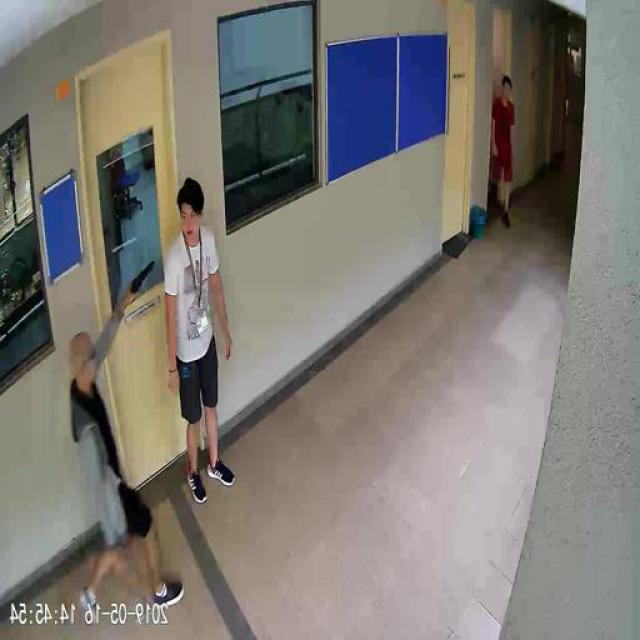Gun: (132, 258, 156, 298)
